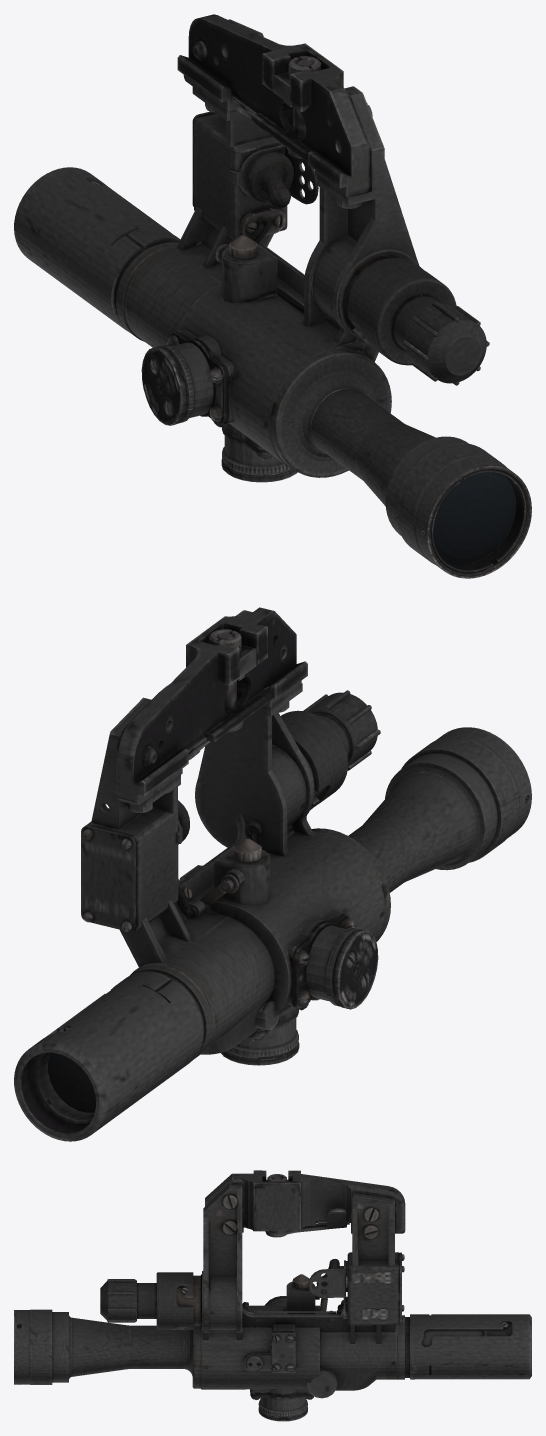
The picture shows the model from 3 angles, top to bottom: view 1: azimuth 30°, elevation 25°; view 2: azimuth 150°, elevation 25°; view 3: azimuth 270°, elevation 25°; orthographic projection. The views are drawn at different scales.
Visible parts, largest first — view 1: TW_576fd4ec2459777f0b518431_mode1_PZ_Import; view 2: TW_576fd4ec2459777f0b518431_mode1_PZ_Import; view 3: TW_576fd4ec2459777f0b518431_mode1_PZ_Import.
Boxes of the visible parts, left/top/right/bottom form: TW_576fd4ec2459777f0b518431_mode1_PZ_Import: left=14, top=14, right=531, bottom=578; TW_576fd4ec2459777f0b518431_mode1_PZ_Import: left=14, top=607, right=531, bottom=1141; TW_576fd4ec2459777f0b518431_mode1_PZ_Import: left=14, top=1170, right=531, bottom=1421.
Bounding box in the file's own units: 0.0405 × 0.1488 × 0.0781.
Materials: 1 (1 with a texture image).
